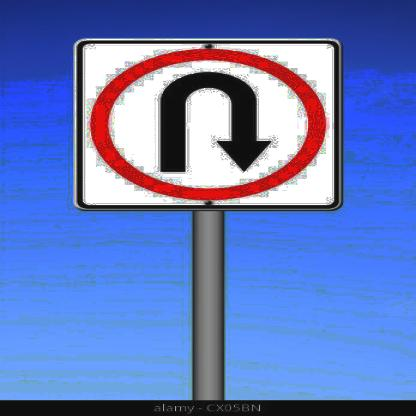U-turn: (66, 33, 336, 215)
